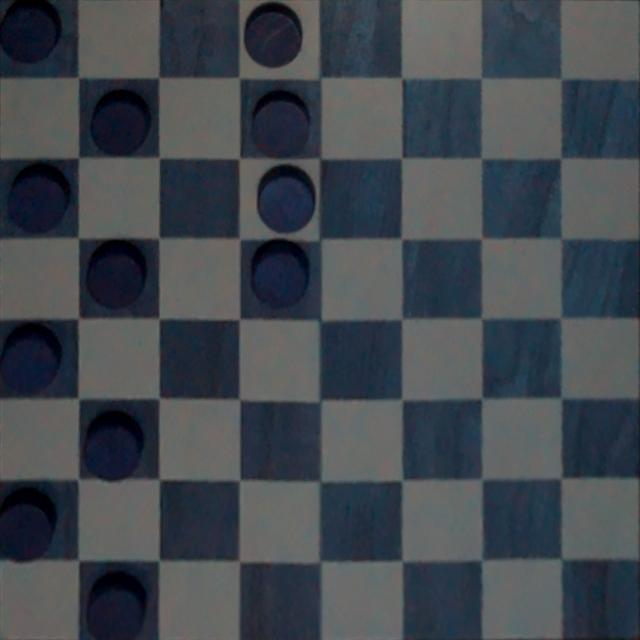BOARD: (0, 0, 640, 640)
black: (240, 86, 316, 162), (0, 161, 76, 234), (242, 170, 322, 236), (84, 236, 154, 308), (82, 568, 154, 636), (238, 0, 307, 69), (88, 88, 158, 156), (0, 492, 60, 567), (0, 329, 66, 397), (252, 236, 314, 308), (0, 2, 66, 68), (80, 414, 144, 482)
